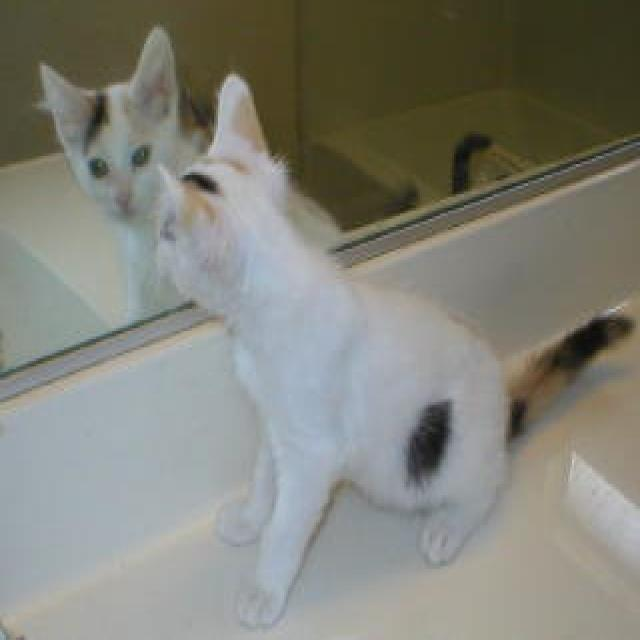Cats: (152, 69, 634, 626)
